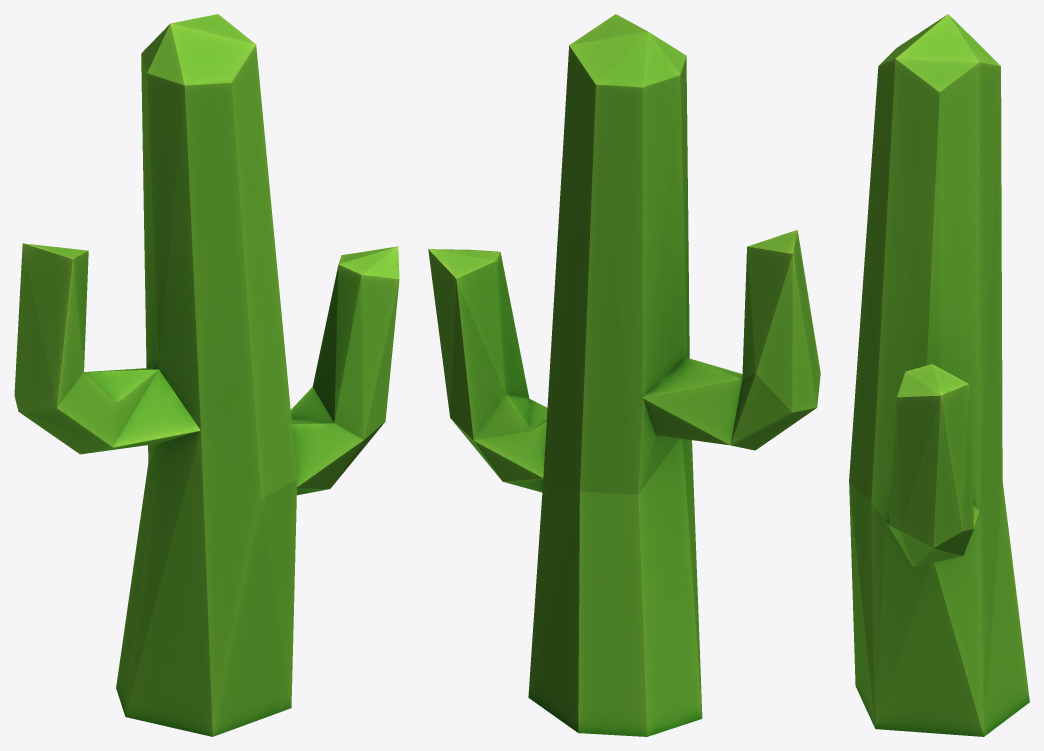
The model's file is Cactus_20.fbx.
3 views of the same model, side by side, from view 1: azimuth 30°, elevation 25°; view 2: azimuth 150°, elevation 25°; view 3: azimuth 270°, elevation 25° (orthographic).
Parts seen in each view (by area): view 1: Cactus_20; view 2: Cactus_20; view 3: Cactus_20.
Part boxes in pixels (x1,y1,x2,y2): Cactus_20: [14, 14, 399, 736]; Cactus_20: [428, 14, 820, 736]; Cactus_20: [849, 14, 1029, 736].
Bounding box in the file's own units: 36.32 × 61.26 × 14.9.
